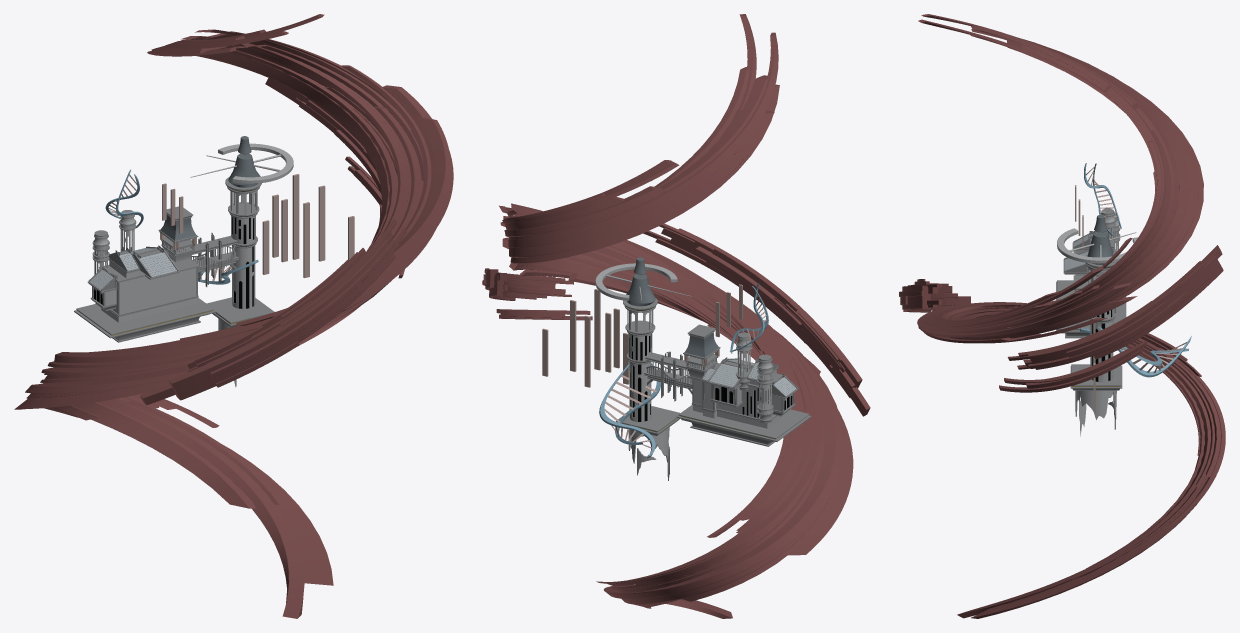
Rendered from CastleScene_Untextured.fbx.
3 views of the same model, side by side, from view 1: azimuth 30°, elevation 25°; view 2: azimuth 150°, elevation 25°; view 3: azimuth 270°, elevation 25° (orthographic). The views are drawn at different scales.
Visible parts, largest first — view 1: cosmic_tide_1, cosmic_tide_2, tower_01, dna_helix_01, cosmic_tide_3, castle_base_01, castle_wall_9, tower_04, sigil, bridge, castle_wall_16, tower_03 (+1 smaller); view 2: cosmic_tide_1, cosmic_tide_2, tower_01, dna_helix_01, cosmic_tide_3, dna_helix_02, tower_04, castle_base_01, sigil, tower_03, bridge, dna_helix_03; view 3: cosmic_tide_1, cosmic_tide_3, tower_01, cosmic_tide_2, dna_helix_02, sigil, dna_helix_03, castle_base_01.
Part boxes in pixels (x1,y1,x2,y2): cosmic_tide_1: (14,14,453,618); cosmic_tide_2: (140,219,407,405); tower_01: (206,136,274,387); dna_helix_01: (162,174,354,277); cosmic_tide_3: (265,78,404,278); castle_base_01: (76,297,213,335); castle_wall_9: (119,274,172,314); tower_04: (158,206,198,261); sigil: (190,143,293,183); bridge: (192,235,239,272); castle_wall_16: (172,268,196,301); tower_03: (92,230,109,274); cosmic_tide_1: (499,14,853,618); cosmic_tide_2: (643,223,870,416); tower_01: (616,257,680,480); dna_helix_01: (542,284,742,387); cosmic_tide_3: (482,268,592,320); dna_helix_02: (599,363,660,458); tower_04: (683,324,720,381); castle_base_01: (678,405,809,439); sigil: (595,263,691,301); tower_03: (757,354,773,423); bridge: (644,352,692,394); dna_helix_03: (730,283,768,353); cosmic_tide_1: (917,14,1225,618); cosmic_tide_3: (999,245,1223,392); tower_01: (1070,215,1122,436); cosmic_tide_2: (899,279,970,312); dna_helix_02: (1080,326,1191,377); sigil: (1057,228,1137,263); dna_helix_03: (1084,163,1121,235); castle_base_01: (1057,280,1124,329).
Bounding box in the file's own units: 478 × 750 × 373.
